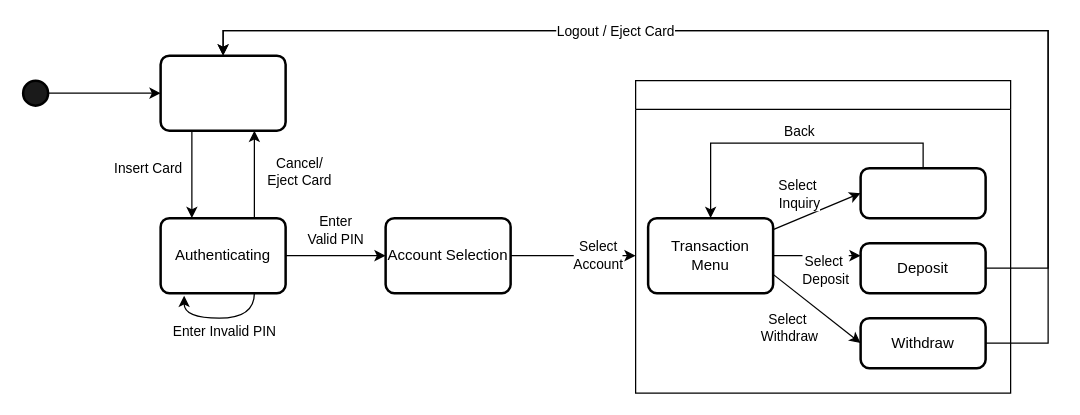
Some shapes in this 1080 by 415 pixel diagram are drawn without their labels. Each missing label, with the box of its shape:
IDLE: (159, 54, 286, 131)
Transaction Ready: (634, 79, 1011, 393)
View Balance: (859, 166, 986, 219)
